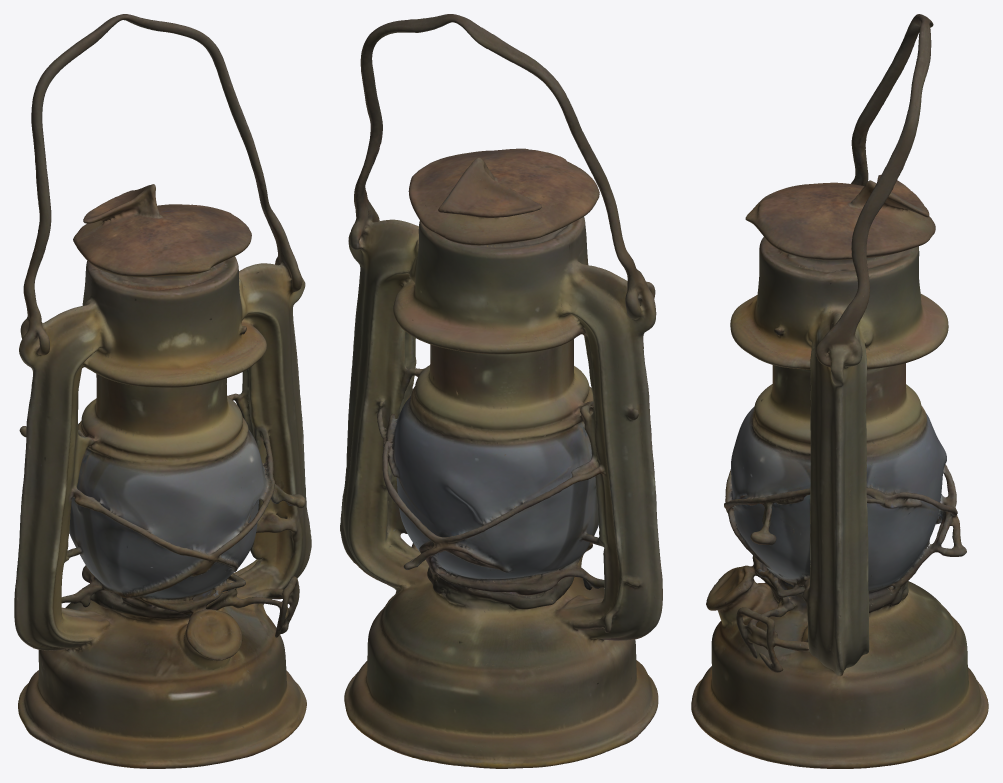
File: Meshy_AI_Crystal_Golem_0602121853_texture.fbx
3 views of the same model, side by side, from view 1: azimuth 30°, elevation 25°; view 2: azimuth 150°, elevation 25°; view 3: azimuth 270°, elevation 25° (orthographic). The views are drawn at different scales.
Parts seen in each view (by area): view 1: Mesh_0; view 2: Mesh_0; view 3: Mesh_0.
Boxes of the visible parts, x1,y1,x2,y2 form: Mesh_0: (14, 14, 311, 768); Mesh_0: (340, 14, 662, 768); Mesh_0: (691, 14, 988, 768).
Size of the model in its own units: 93.29 by 200 by 78.37.
1 material, 1 textured.
